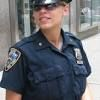uniform: (5, 32, 89, 98)
